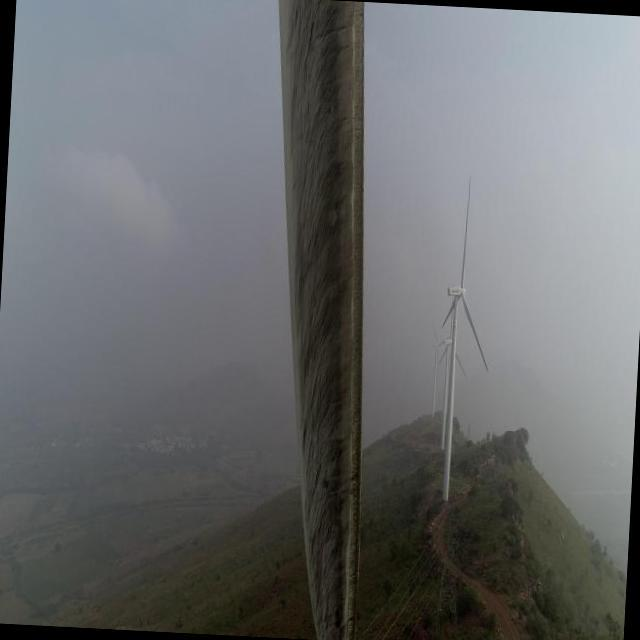Dirt: (278, 0, 366, 639)
Pin Hole: (316, 474, 333, 494)
